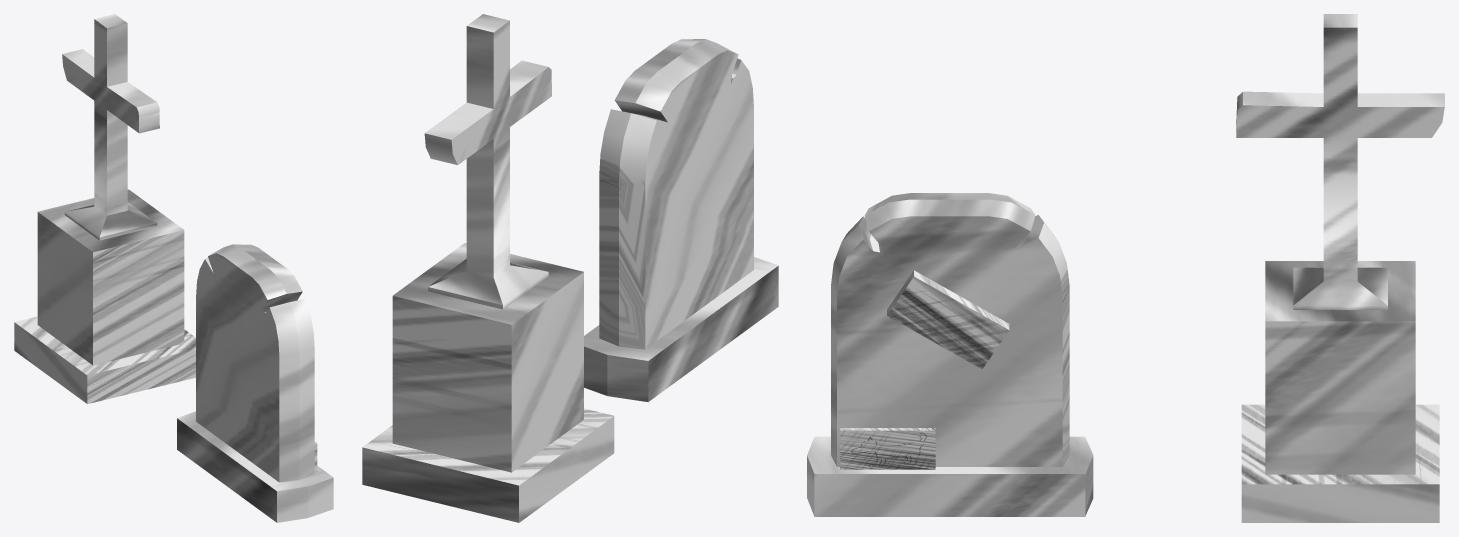
The model's file is Tombstone.fbx.
3 views of the same model, side by side, from view 1: azimuth 30°, elevation 25°; view 2: azimuth 150°, elevation 25°; view 3: azimuth 270°, elevation 25° (orthographic). The views are drawn at different scales.
Parts seen in each view (by area): view 1: Plane.001; view 2: Plane.001; view 3: Plane.001.
Part boxes in pixels (<box>): Plane.001: <box>14,14,333,522</box>; Plane.001: <box>362,14,778,522</box>; Plane.001: <box>807,14,1444,522</box>.
Size of the model in its own units: 237 by 663 by 803.
